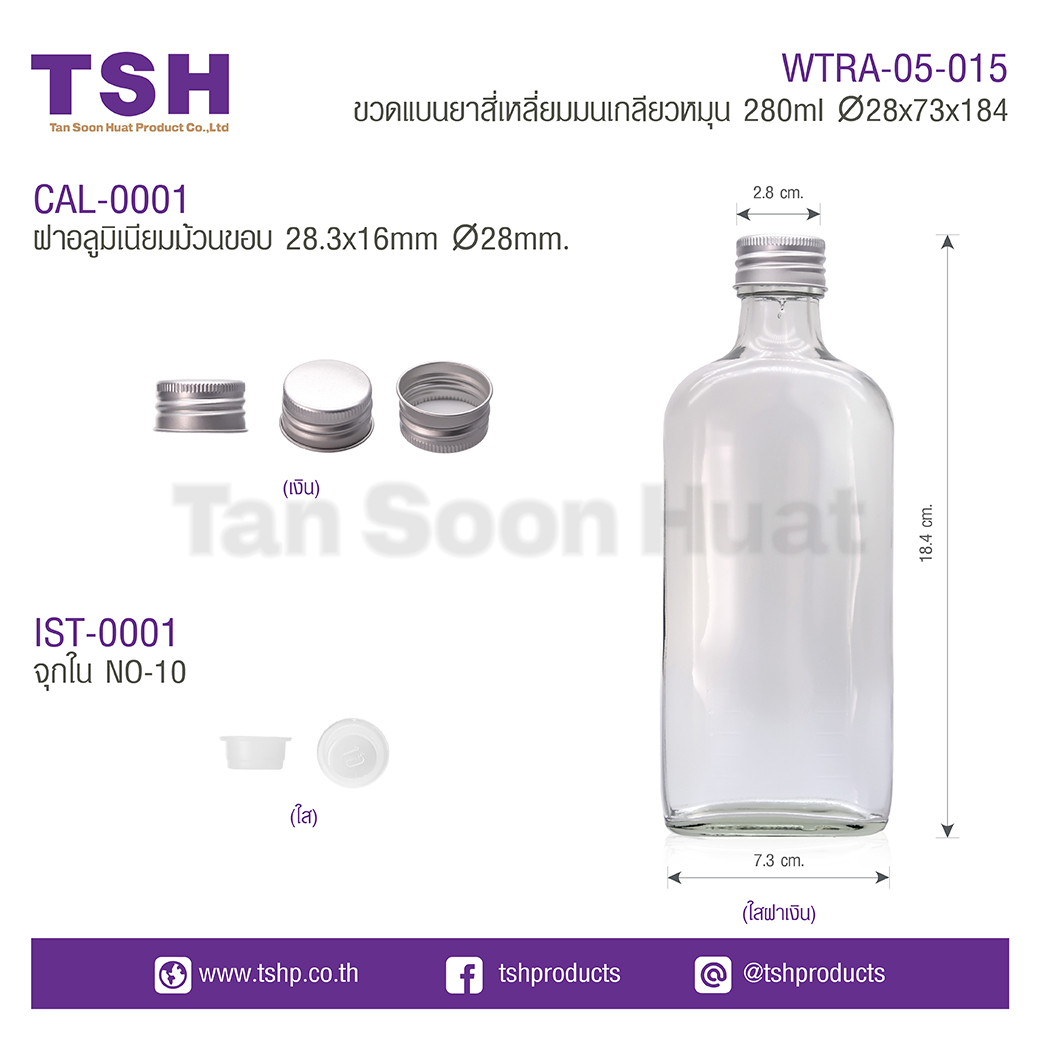glass_bottle: (641, 228, 907, 850)
